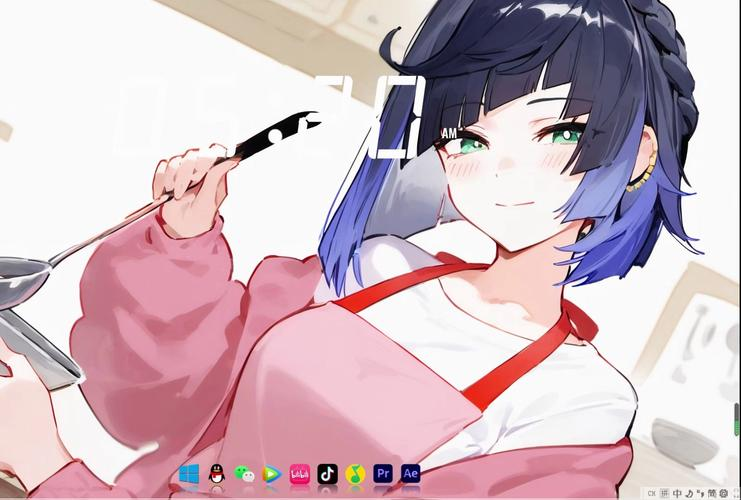夜兰: (1, 2, 712, 500)
